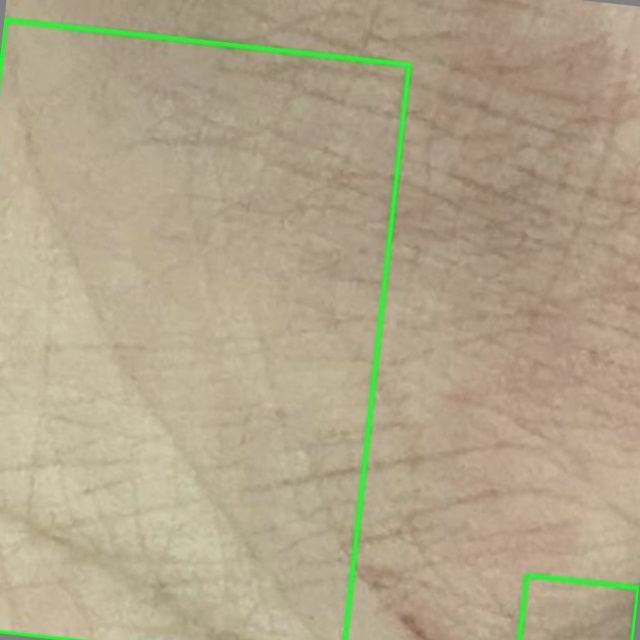Contact Dermatitis: (0, 19, 408, 639)
